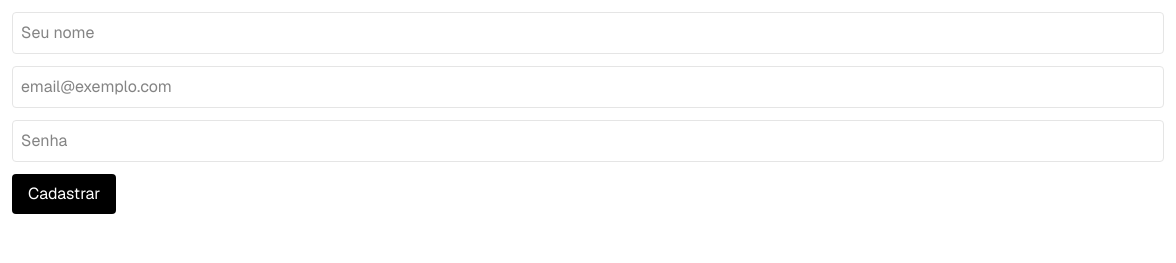
Scenario: SignUpForm › quando res.ok=false e json() retorna error, exibe mensagem do backend
Step 1. Type "Ana" into the field with placeholder "Seu nome" → (588, 33), box x1=12 y1=12 x2=1164 y2=54
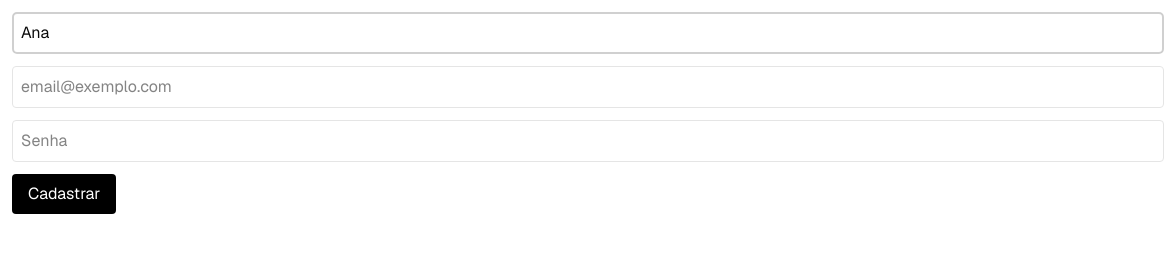
Step 2. Type "ana@ex.com" into the field with placeholder "email@exemplo.com" → (588, 87), box x1=12 y1=66 x2=1164 y2=108
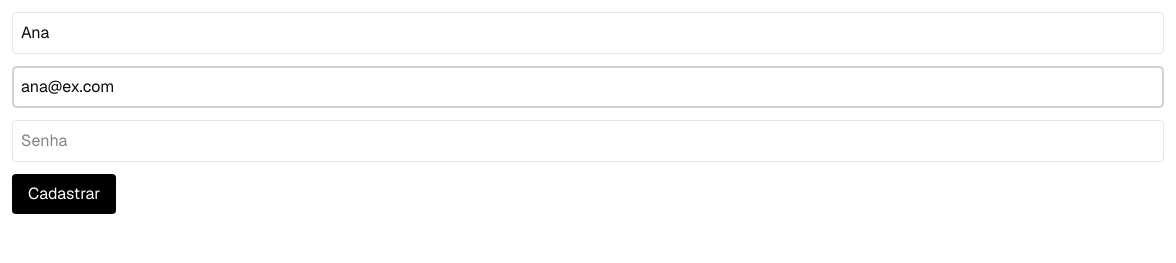
Step 3. Type "123456" into the password field with placeholder "Senha" → (588, 141), box x1=12 y1=120 x2=1164 y2=162
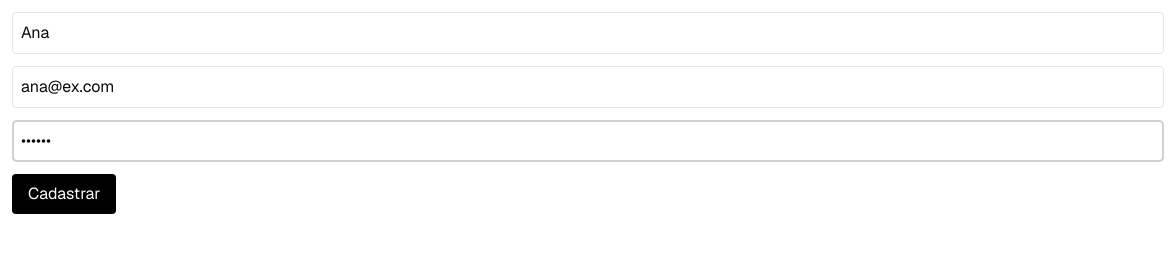
Step 4. Click the button "Cadastrar" → (64, 194), box x1=12 y1=174 x2=116 y2=214
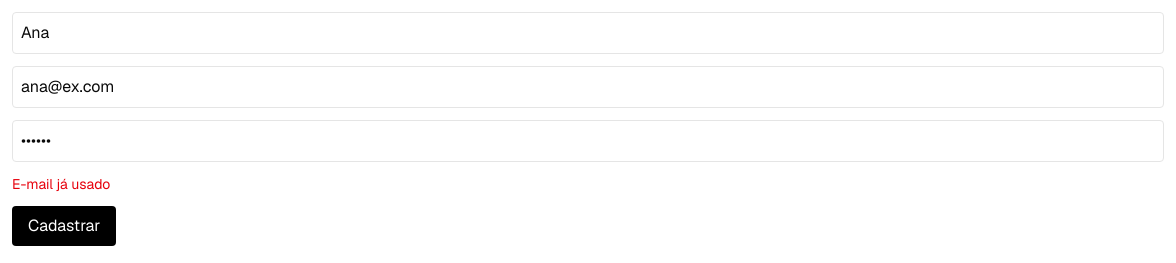
expect the text "E-mail já usado" is shown: met, box x1=12 y1=175 x2=110 y2=193
